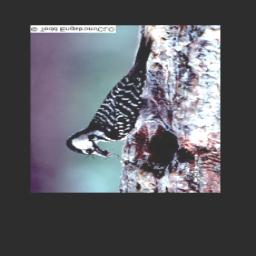Woodpecker: (64, 36, 165, 160)
